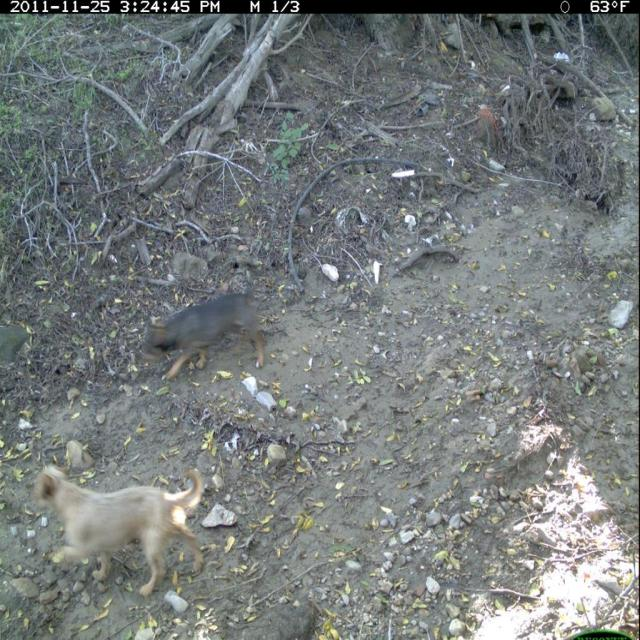dog: (29, 461, 207, 600), (139, 279, 269, 389)
